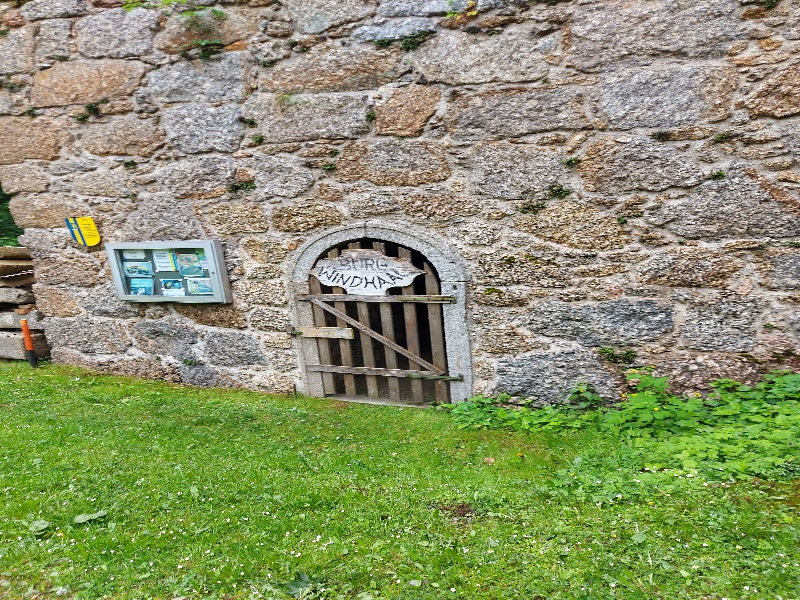dungeon: (266, 216, 487, 430)
